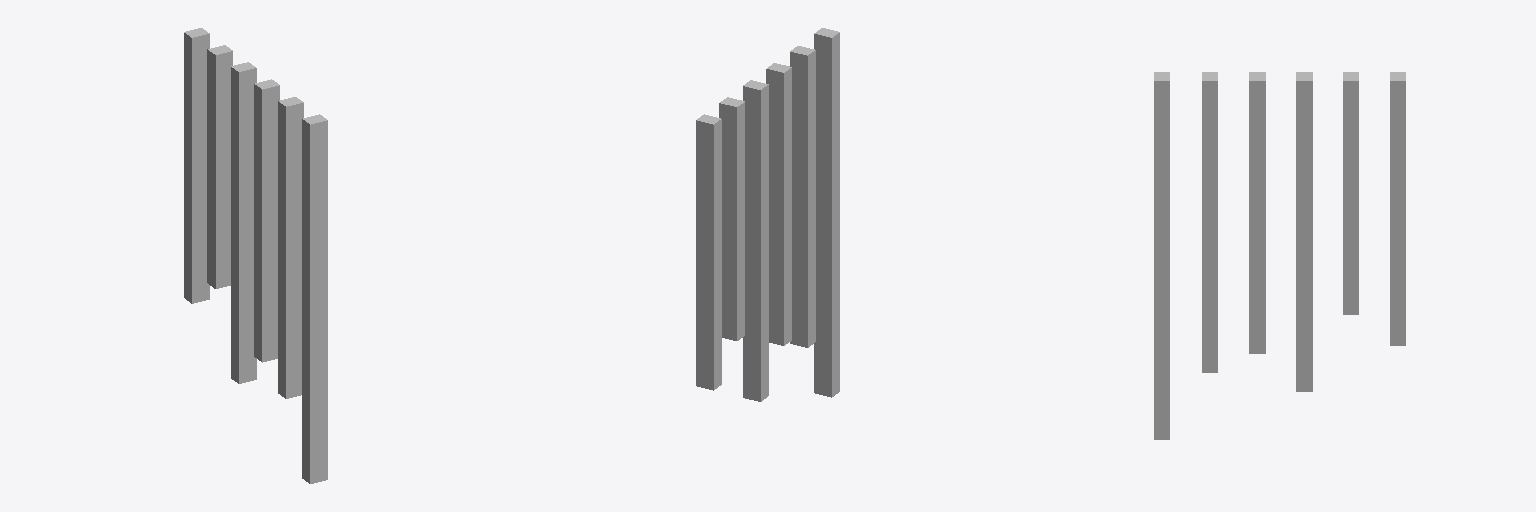
The model's file is wall.2.obj.
3 views of the same model, side by side, from view 1: azimuth 30°, elevation 25°; view 2: azimuth 150°, elevation 25°; view 3: azimuth 270°, elevation 25° (orthographic).
Visible parts, largest first — view 1: Cube.382_Cube.386; view 2: Cube.382_Cube.386; view 3: Cube.382_Cube.386.
Boxes of the visible parts, box(x1,y1,x2,y2) form: Cube.382_Cube.386: box(184, 28, 327, 483); Cube.382_Cube.386: box(696, 28, 839, 401); Cube.382_Cube.386: box(1154, 72, 1405, 439).
Bounding box in the file's own units: 0.1281 × 2.47 × 1.57.